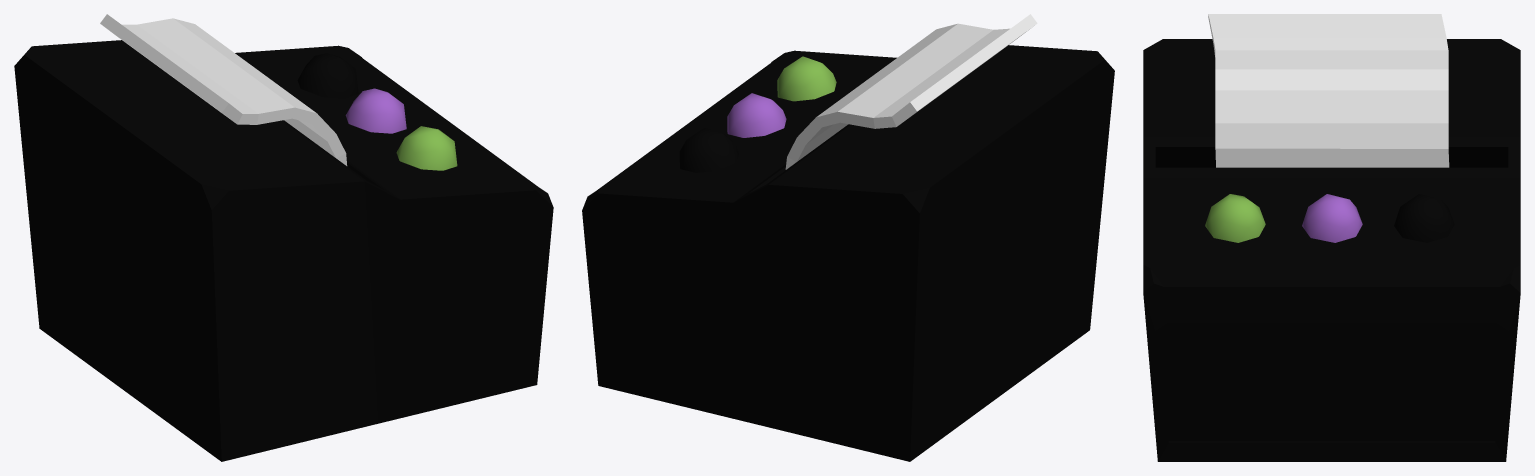
File: machine1_improved.fbx
The picture shows the model from 3 angles, left to right: view 1: azimuth 30°, elevation 25°; view 2: azimuth 150°, elevation 25°; view 3: azimuth 270°, elevation 25°; orthographic projection. The views are drawn at different scales.
Parts seen in each view (by area): view 1: Cube.008; view 2: Cube.008; view 3: Cube.008.
Part boxes in pixels (bbox=[...]): Cube.008: bbox=[14, 14, 553, 461]; Cube.008: bbox=[582, 14, 1114, 461]; Cube.008: bbox=[1143, 14, 1520, 461].
Size of the model in its own units: 33.17 by 30.7 by 33.17.
5 materials, 1 textured.
